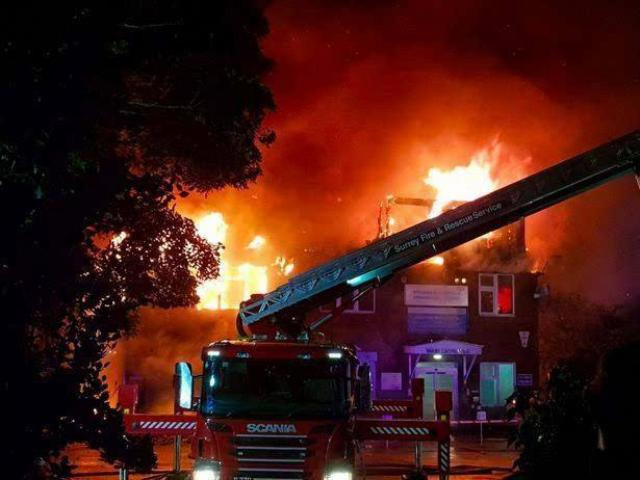fire: (182, 208, 268, 308), (424, 146, 494, 264)
